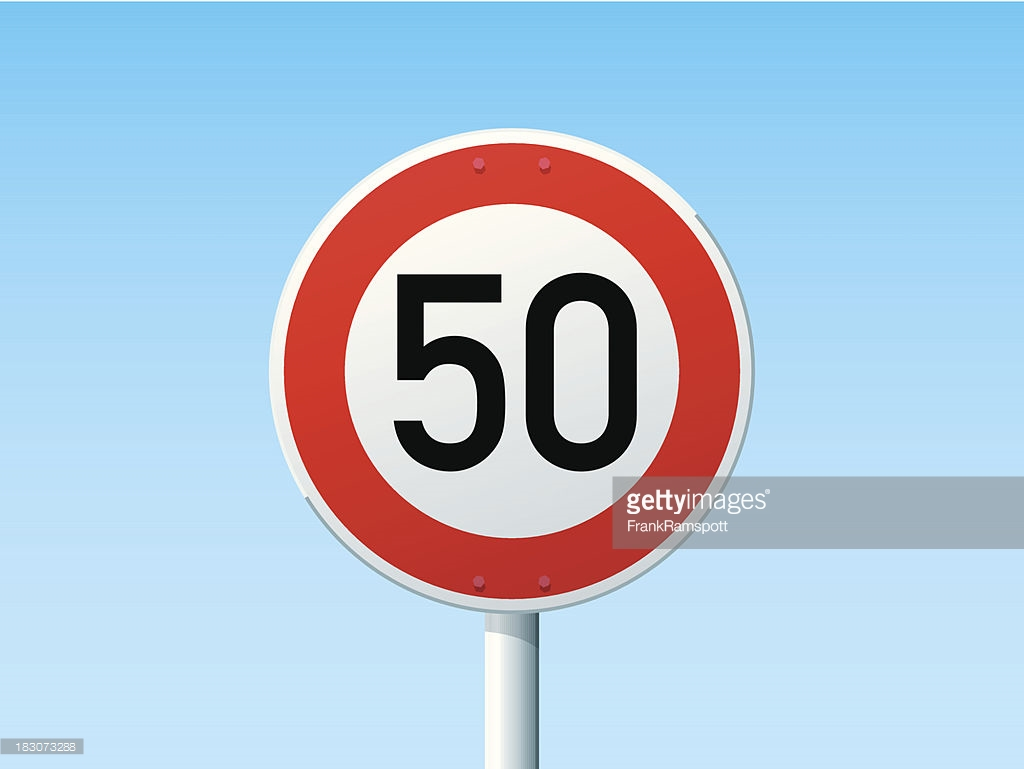Speed_limit_50km: (264, 128, 754, 610)
